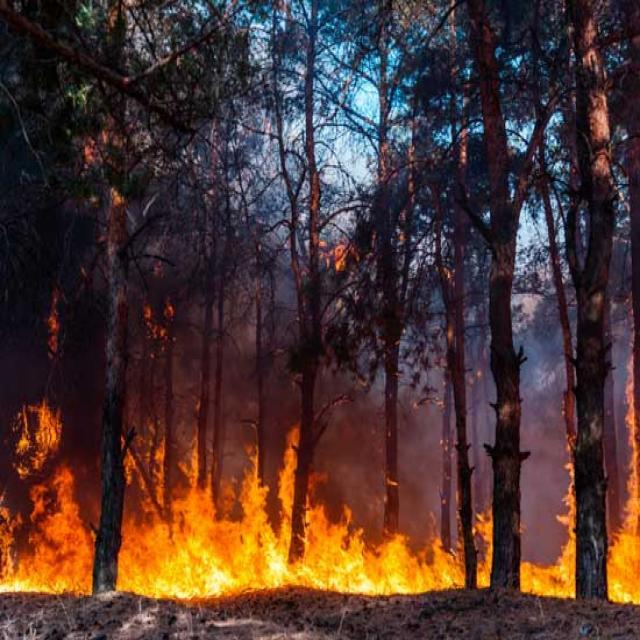Fire: (119, 423, 497, 598), (0, 402, 99, 596)
Smoke: (170, 308, 284, 462), (320, 382, 388, 531), (520, 347, 564, 560), (401, 353, 443, 537)
